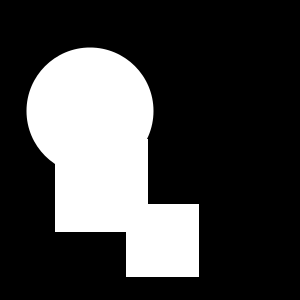circle: (55, 139, 148, 232), (126, 204, 199, 277)
rectangle: (26, 48, 154, 174), (163, 254, 182, 272)
